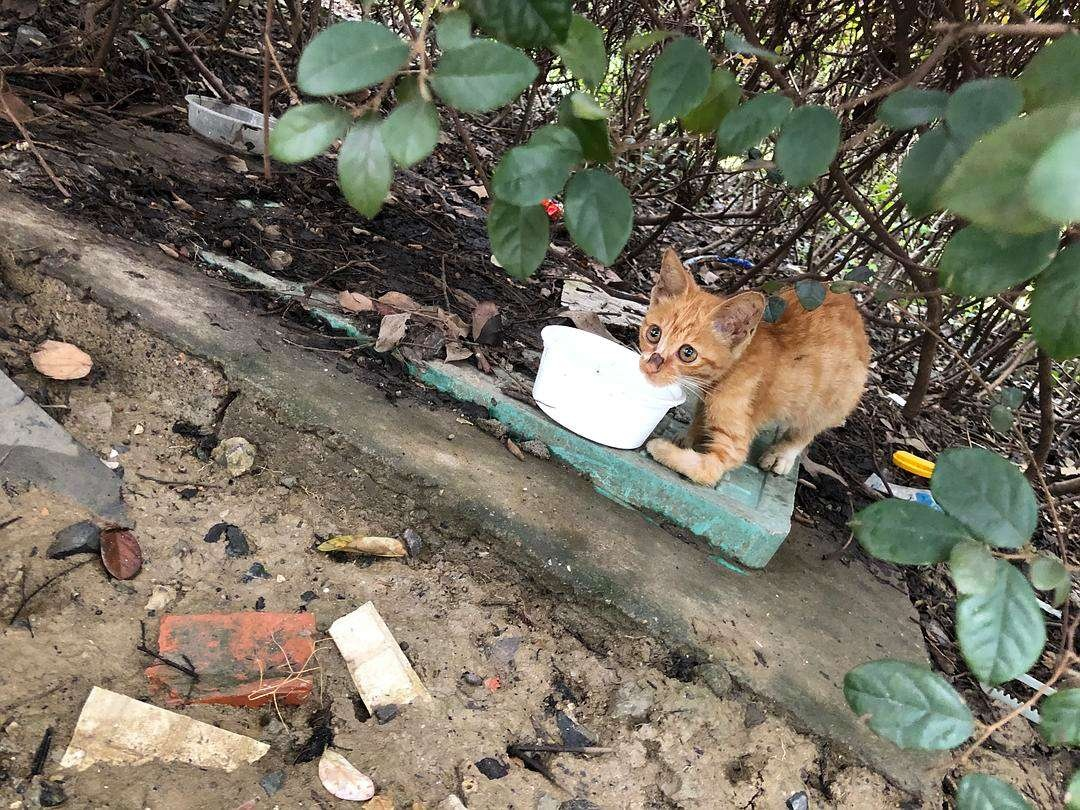cat: (641, 247, 872, 489)
